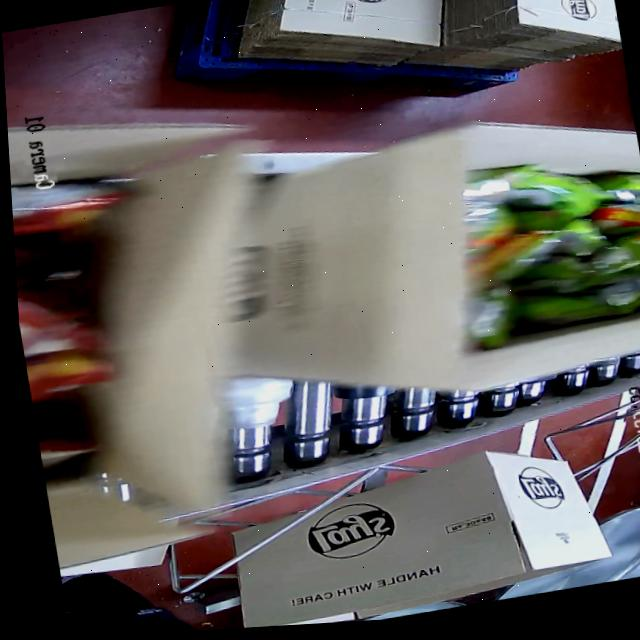YOGURT_HERB: (450, 154, 640, 351)
